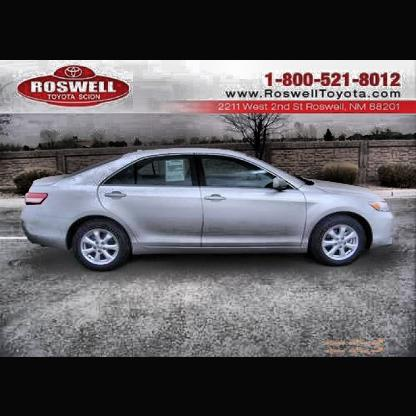Toyota Camry Sedan 2012: (22, 147, 396, 273)
